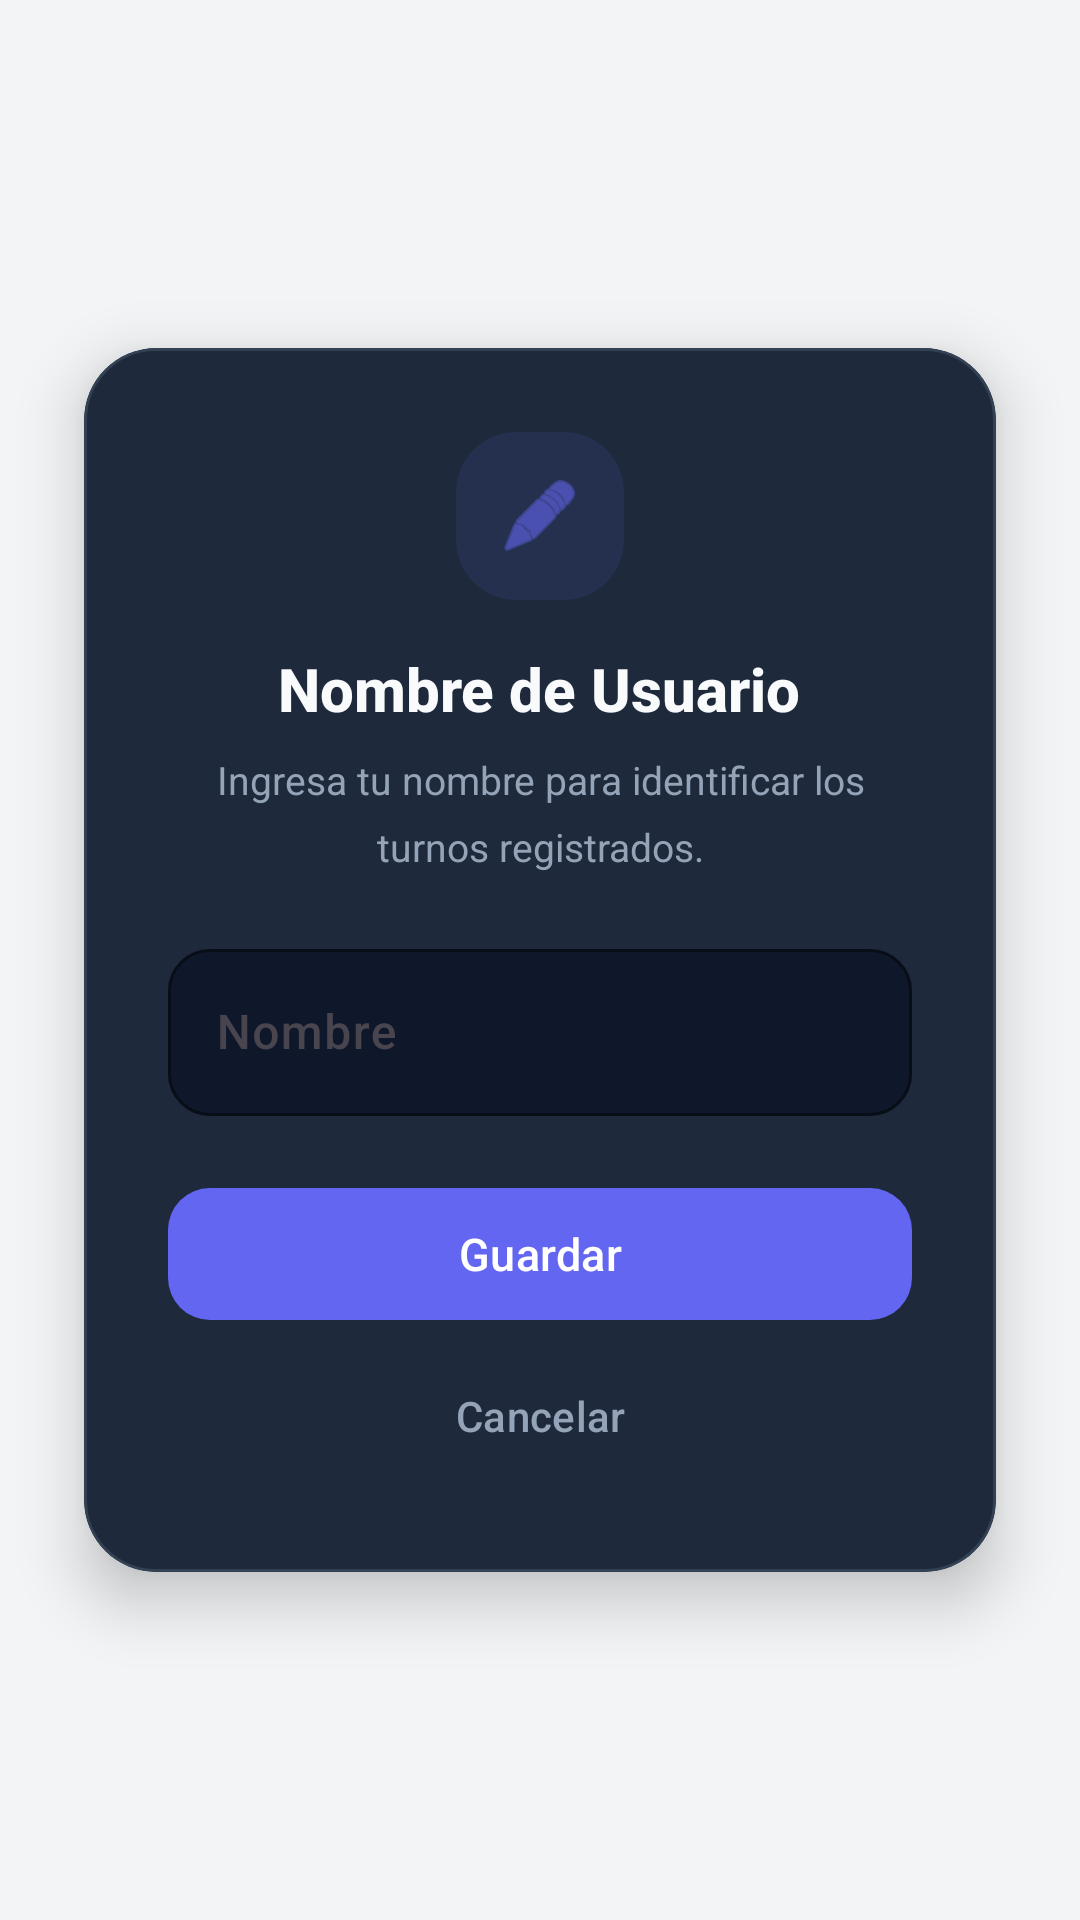

Screen size 1080px×1920px. Icon name, then its center in pixels as (x,y):
Editar nombre: (539,515)
